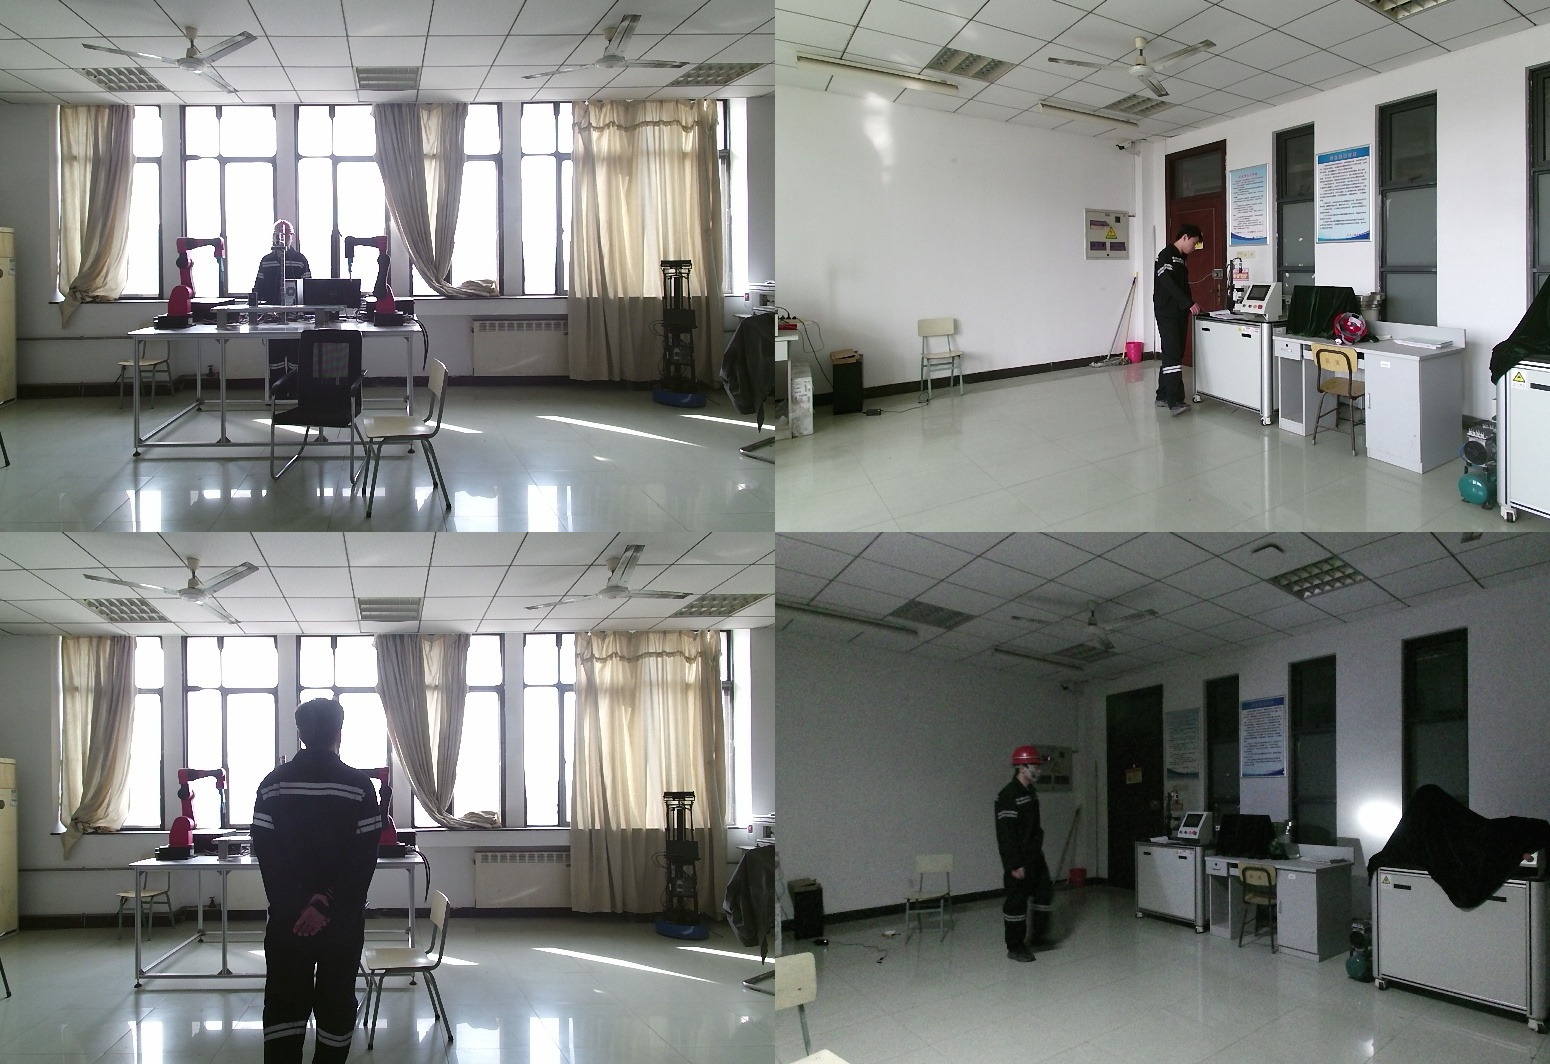person: (249, 699, 398, 1064), (986, 745, 1051, 972), (1147, 230, 1211, 420), (251, 222, 312, 402)
